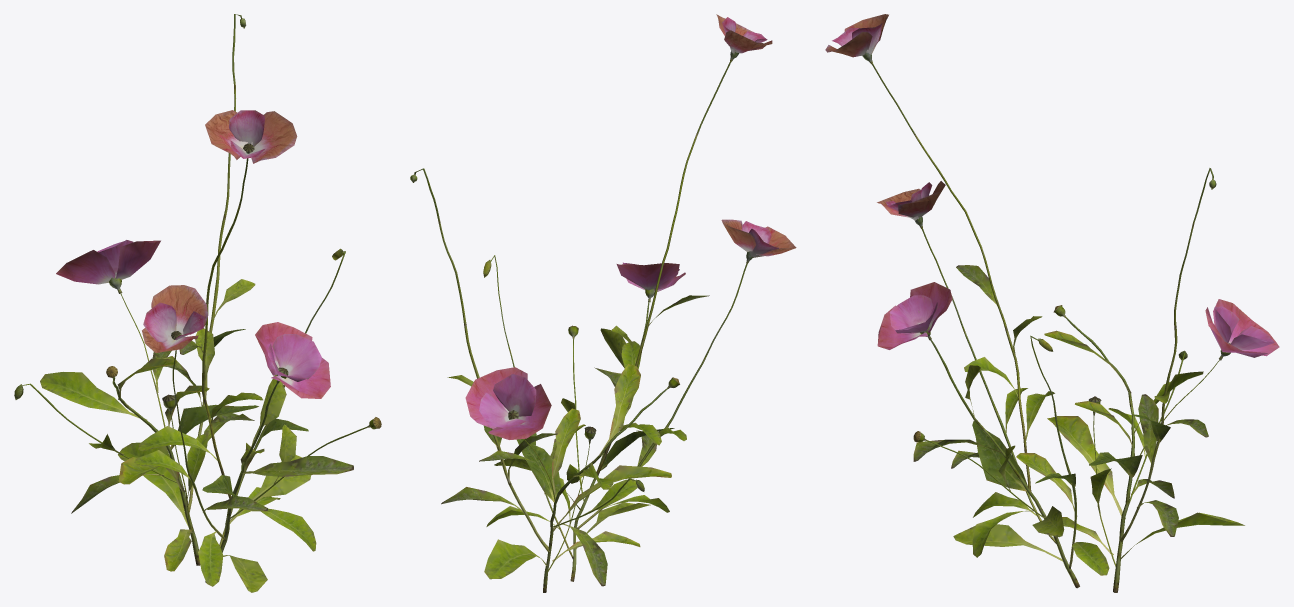
File: Poppy_bush_normal_peach.glb
The picture shows the model from 3 angles, left to right: view 1: azimuth 30°, elevation 25°; view 2: azimuth 150°, elevation 25°; view 3: azimuth 270°, elevation 25°; orthographic projection. The views are drawn at different scales.
Visible parts, largest first — view 1: bushhhh; view 2: bushhhh; view 3: bushhhh.
Boxes of the visible parts, <box> form: bushhhh: <box>14,14,381,592</box>; bushhhh: <box>410,14,796,592</box>; bushhhh: <box>825,14,1279,592</box>.
Bounding box in the file's own units: 2.3 × 4.57 × 3.53.
1 material, 1 textured.
